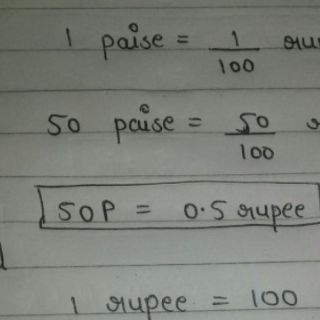.: (200, 203, 206, 213)
0: (78, 201, 95, 222), (67, 114, 83, 134), (241, 55, 257, 73)
1: (61, 24, 76, 49), (229, 25, 243, 46), (248, 288, 261, 309)
5: (47, 109, 67, 139), (235, 108, 257, 135), (209, 197, 230, 222), (56, 201, 76, 222)
